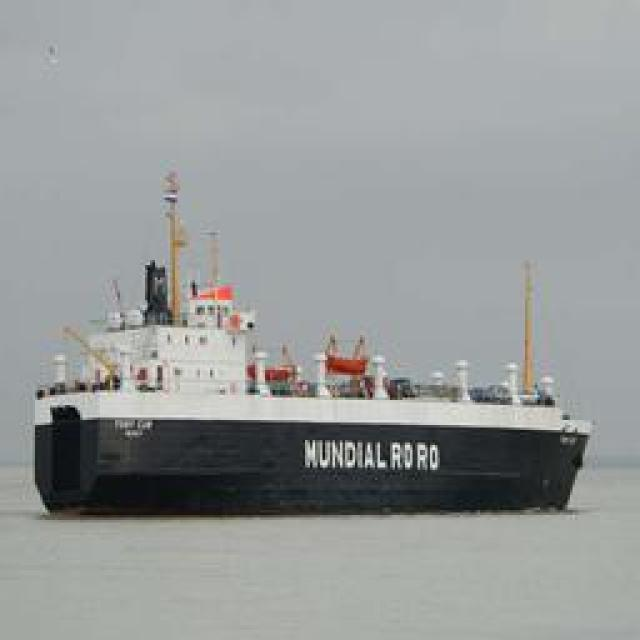CIV_Ship: (26, 206, 594, 509)
